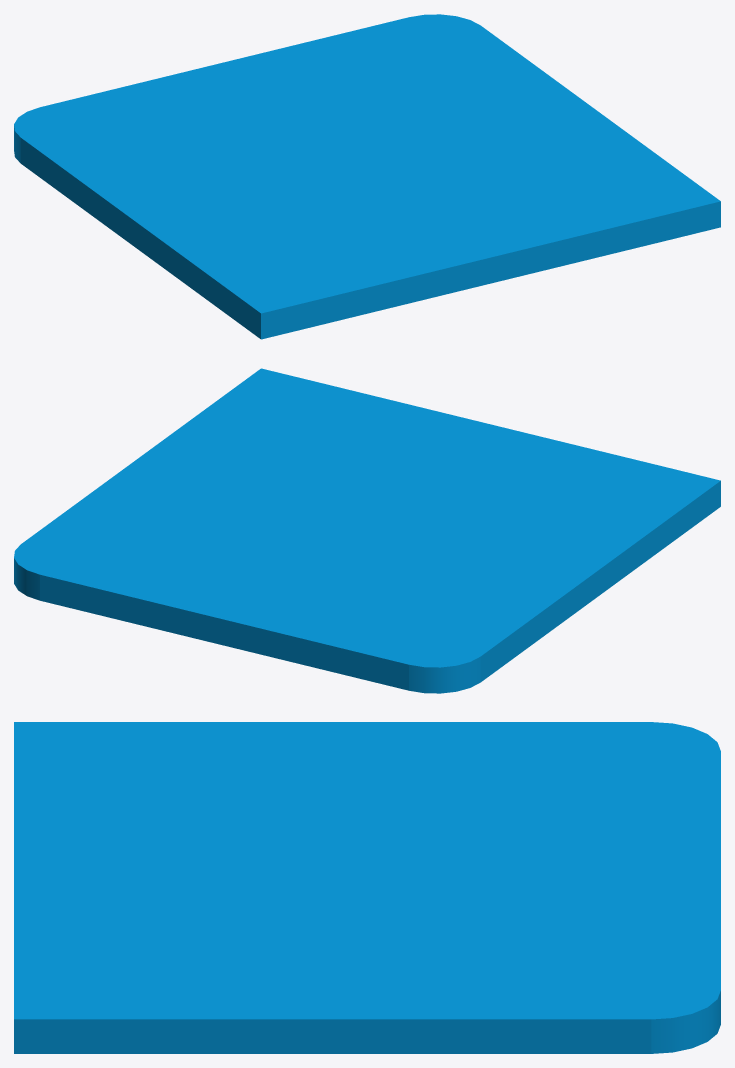
Rendered from Bridge_Start_End.fbx.
The picture shows the model from 3 angles, top to bottom: view 1: azimuth 30°, elevation 25°; view 2: azimuth 150°, elevation 25°; view 3: azimuth 270°, elevation 25°; orthographic projection. The views are drawn at different scales.
Visible parts, largest first — view 1: Bridge_Start_End; view 2: Bridge_Start_End; view 3: Bridge_Start_End.
Part boxes in pixels (<box>): Bridge_Start_End: <box>14,14,720,339</box>; Bridge_Start_End: <box>14,368,720,693</box>; Bridge_Start_End: <box>14,722,720,1053</box>.
Bounding box in the file's own units: 19.57 × 1.06 × 19.66.
